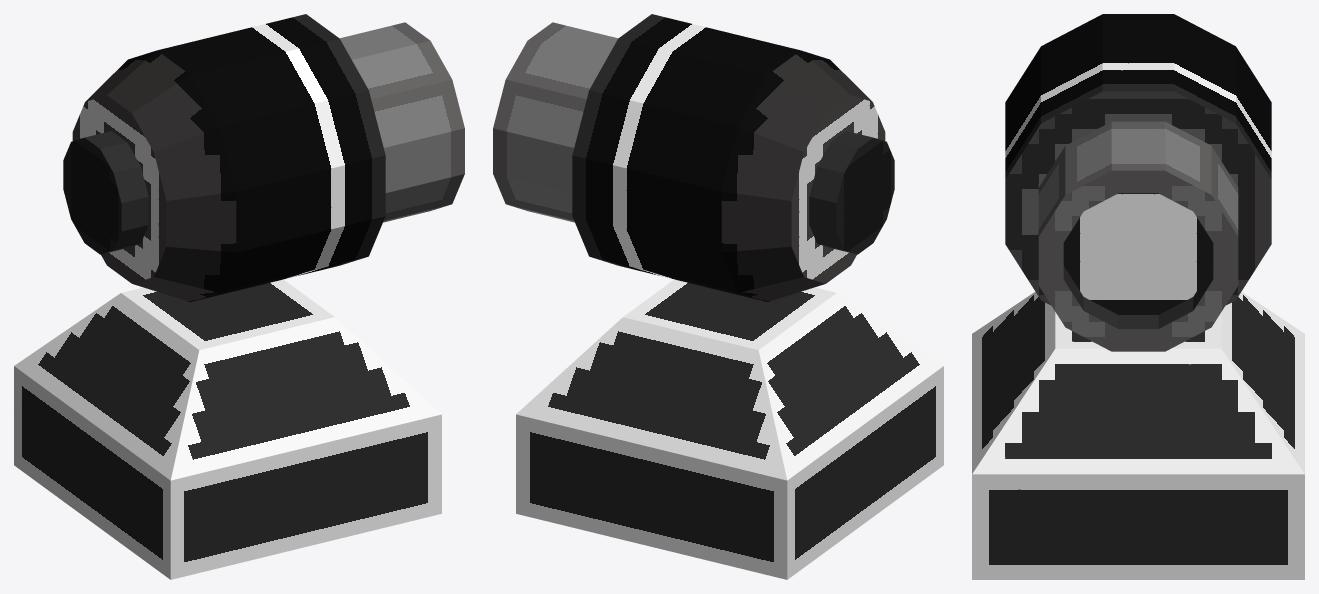
Rendered from LaserLauncher.fbx.
3 renders of one model, left to right at view 1: azimuth 30°, elevation 25°; view 2: azimuth 150°, elevation 25°; view 3: azimuth 270°, elevation 25°, orthographic. The views are drawn at different scales.
Parts seen in each view (by area): view 1: Base, Cannon; view 2: Base, Cannon; view 3: Base, Cannon.
Part boxes in pixels (left/top/right/bottom): Base: left=14, top=279, right=441, bottom=579; Cannon: left=63, top=14, right=464, bottom=301; Base: left=516, top=279, right=943, bottom=579; Cannon: left=493, top=14, right=894, bottom=301; Base: left=972, top=291, right=1304, bottom=579; Cannon: left=1005, top=14, right=1271, bottom=351.
Bounding box in the file's own units: 150 × 194 × 125.
Materials: 2 (2 with a texture image).
